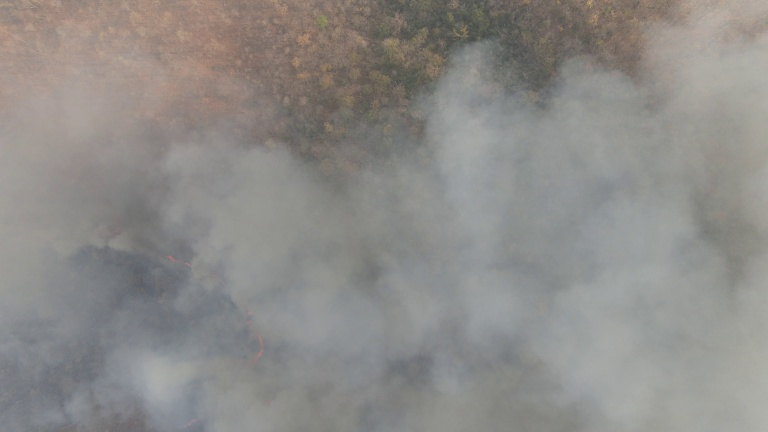fire: (160, 254, 263, 363), (166, 413, 220, 432)
smoke: (173, 139, 768, 432)
